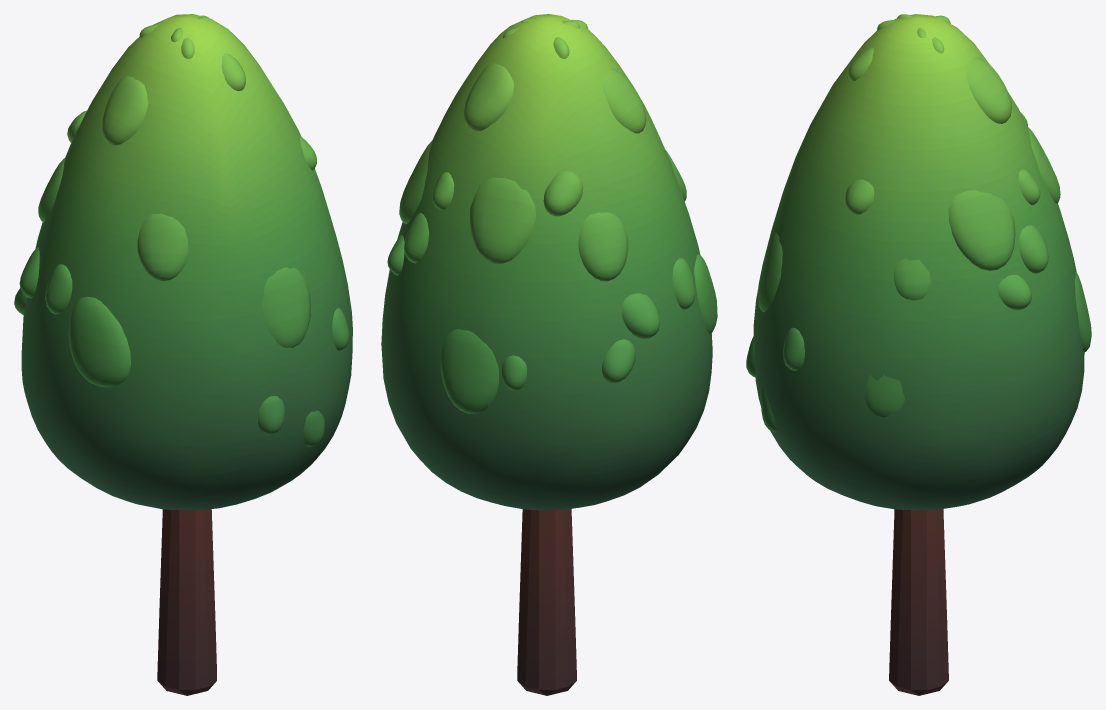
Rendered from puu2.fbx.
The picture shows the model from 3 angles, left to right: view 1: azimuth 30°, elevation 25°; view 2: azimuth 150°, elevation 25°; view 3: azimuth 270°, elevation 25°; orthographic projection.
Visible parts, largest first — view 1: Plane.010; view 2: Plane.010; view 3: Plane.010.
Boxes of the visible parts, x1,y1,x2,y2 form: Plane.010: (14,14,352,695); Plane.010: (381,14,717,695); Plane.010: (746,14,1091,695).
Bounding box in the file's own units: 1.84 × 4.08 × 1.92.
